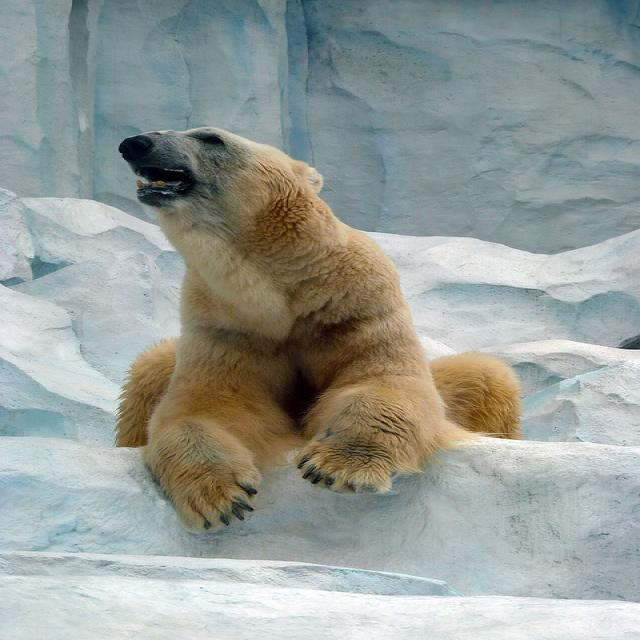Bear: (83, 110, 521, 531)
